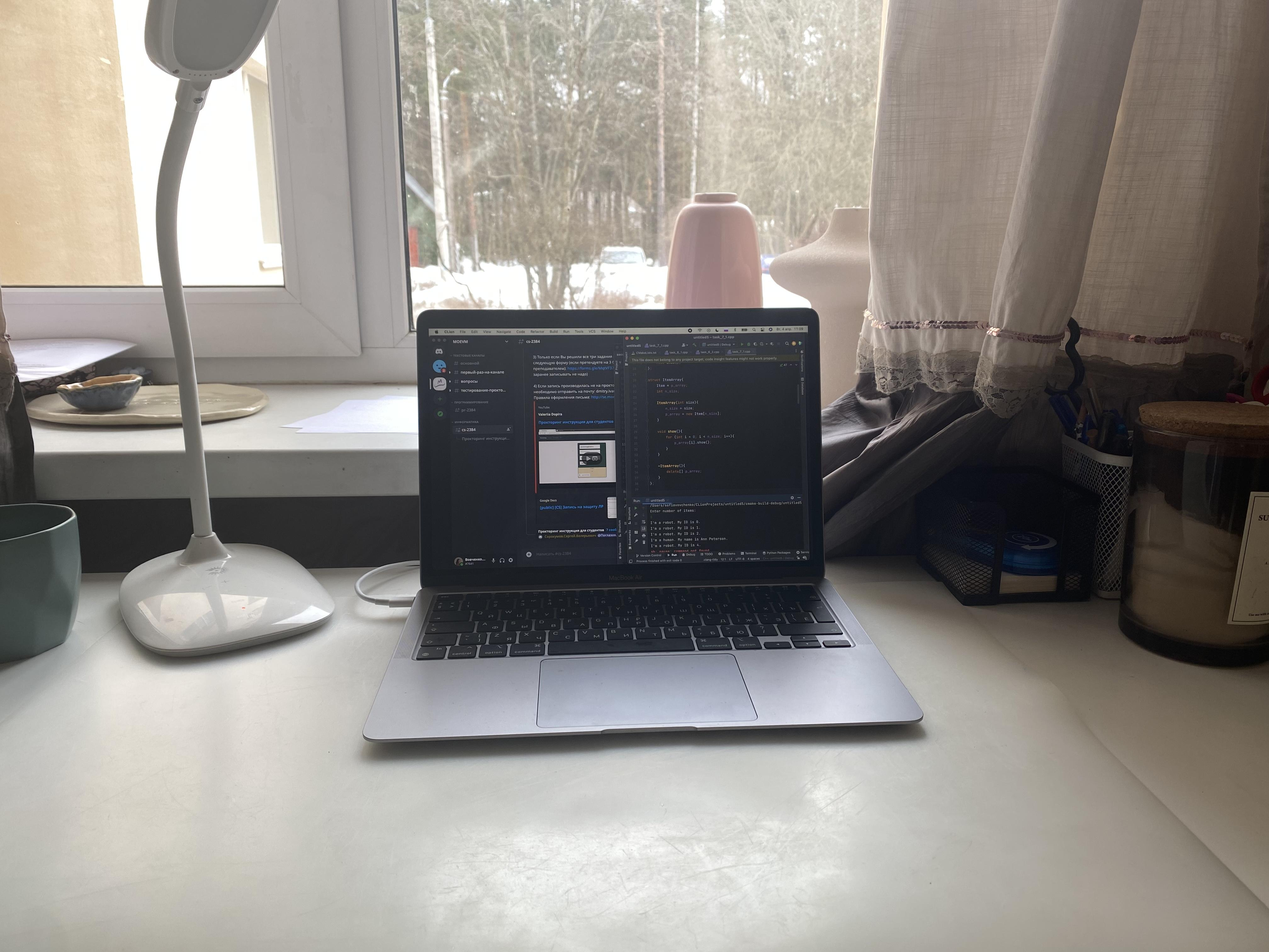monitor: (409, 301, 831, 595)
